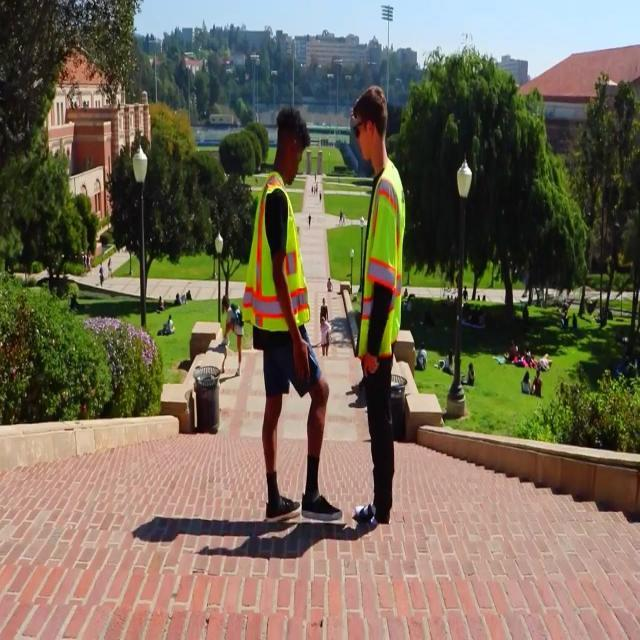reflective_jacket: (325, 147, 412, 382), (239, 167, 314, 357)
